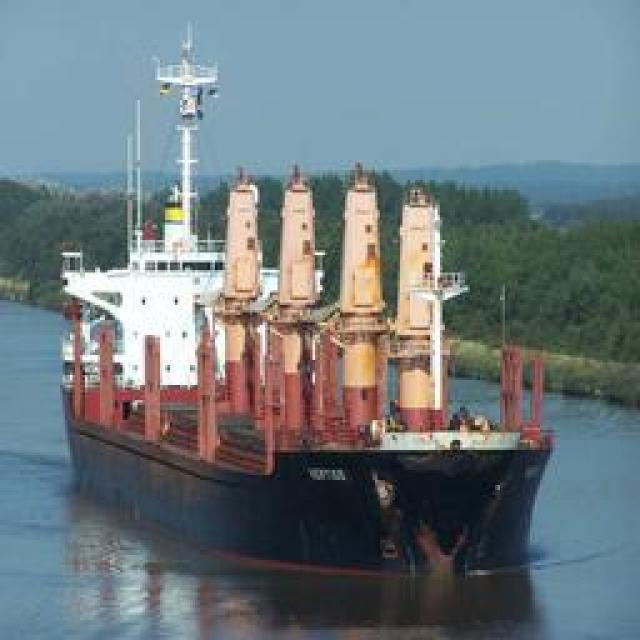CIV_Ship: (52, 34, 570, 574)
